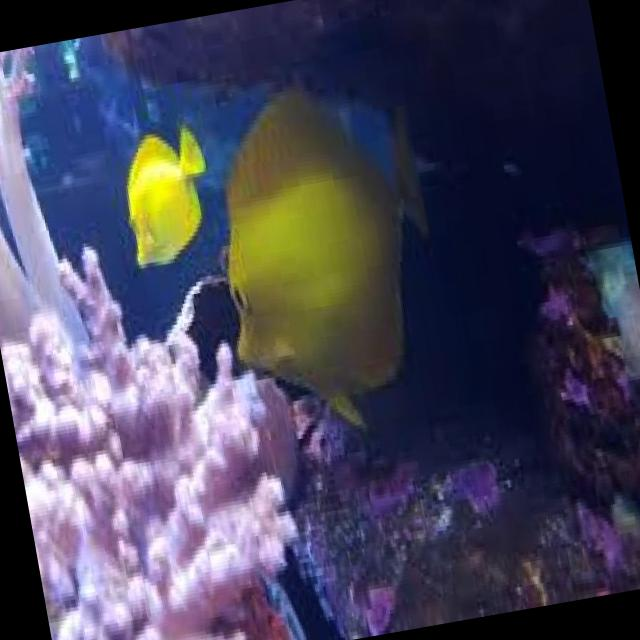YellowTang: (193, 51, 472, 455), (103, 98, 231, 292)
